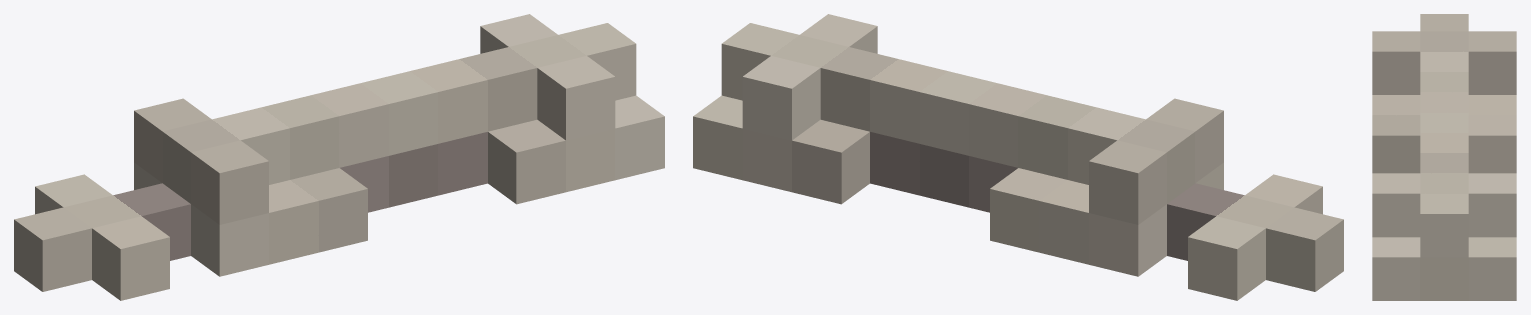
Rendered from skeleton_piece_01.fbx.
The picture shows the model from 3 angles, left to right: view 1: azimuth 30°, elevation 25°; view 2: azimuth 150°, elevation 25°; view 3: azimuth 270°, elevation 25°; orthographic projection. The views are drawn at different scales.
Parts seen in each view (by area): view 1: skeleton_piece_01; view 2: skeleton_piece_01; view 3: skeleton_piece_01.
Part boxes in pixels (x1,y1,x2,y2): skeleton_piece_01: [14, 14, 664, 300]; skeleton_piece_01: [693, 14, 1343, 300]; skeleton_piece_01: [1372, 14, 1516, 300].
Bounding box in the file's own units: 12 × 2 × 3.
Materials: 1 (1 with a texture image).
